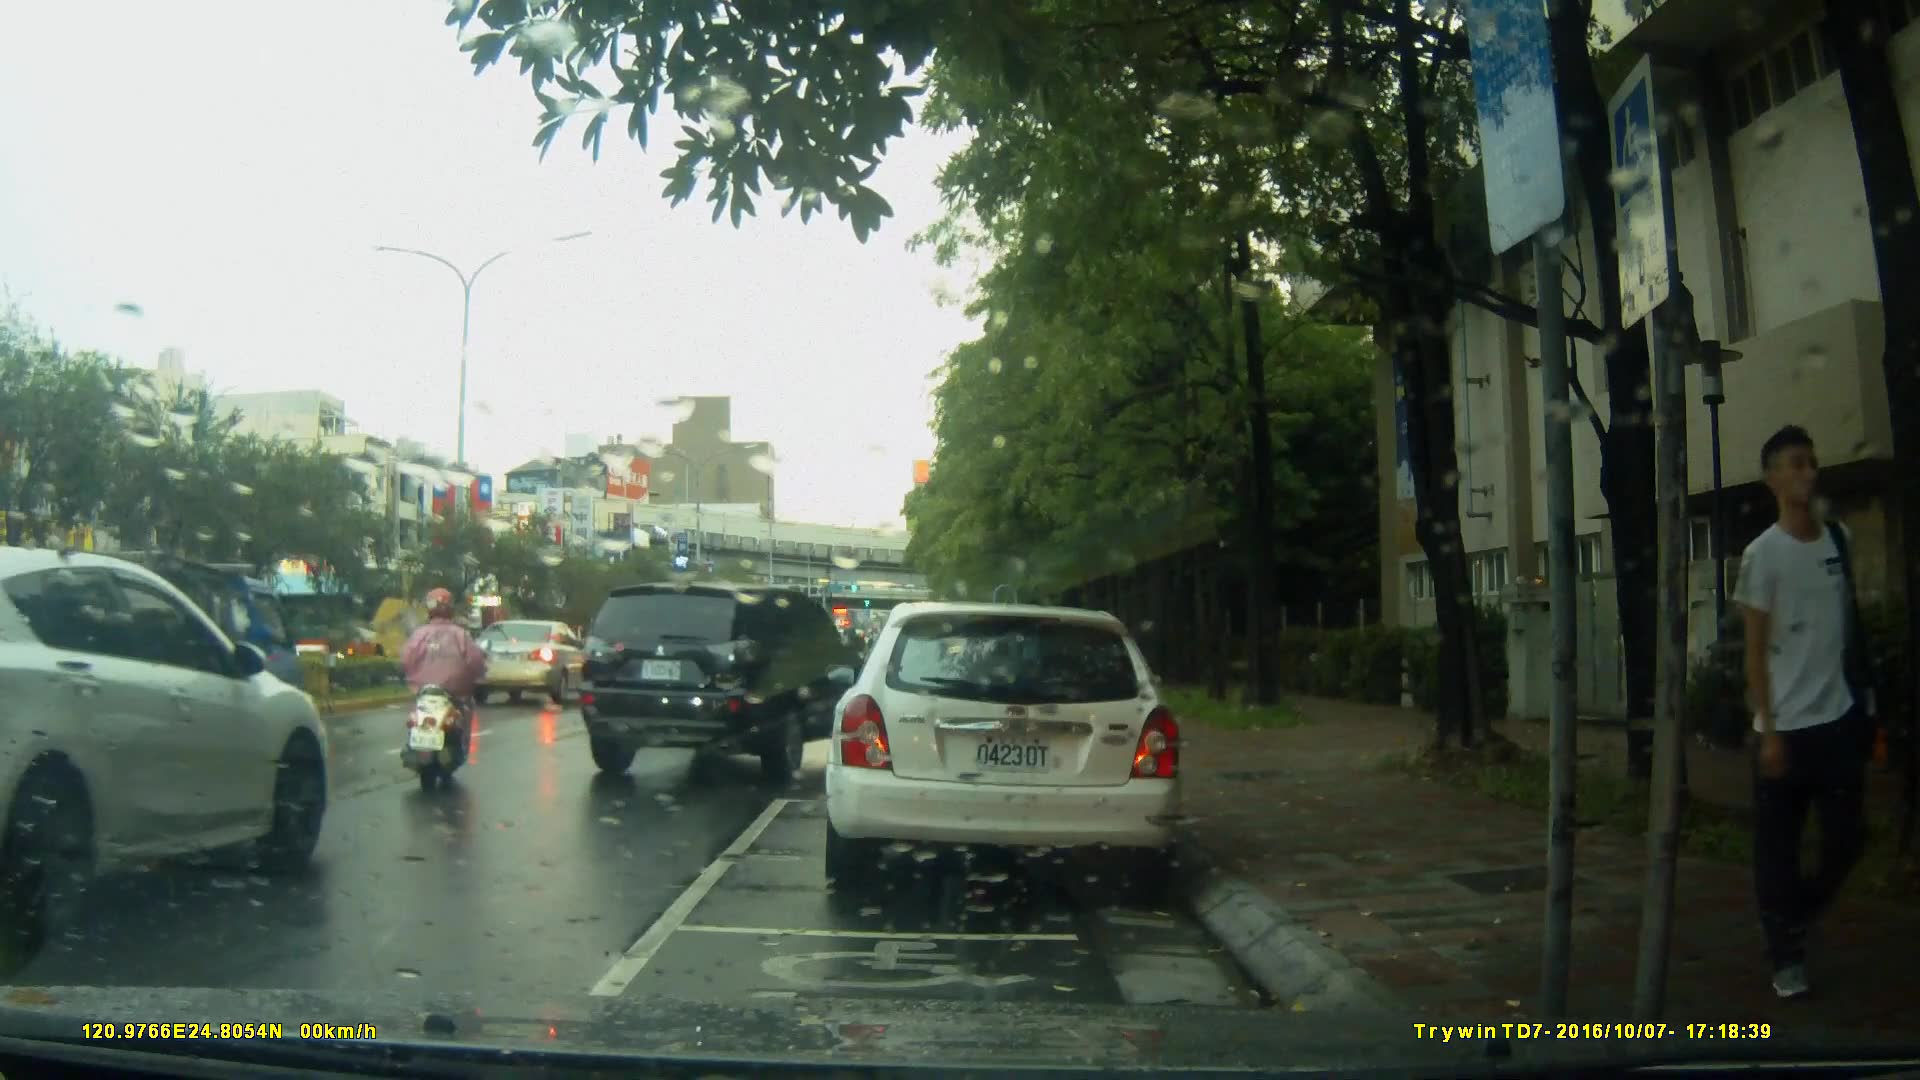pedestrian: (1735, 417, 1874, 1009)
rider: (410, 587, 485, 785)
vehicle: (1, 544, 336, 948), (820, 602, 1188, 898), (569, 578, 873, 777), (247, 548, 489, 692), (465, 618, 587, 707)
